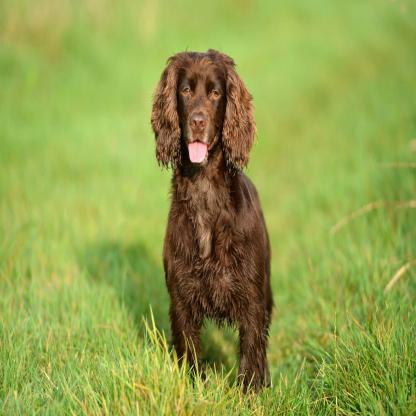Field Spaniel: (148, 36, 275, 392)
